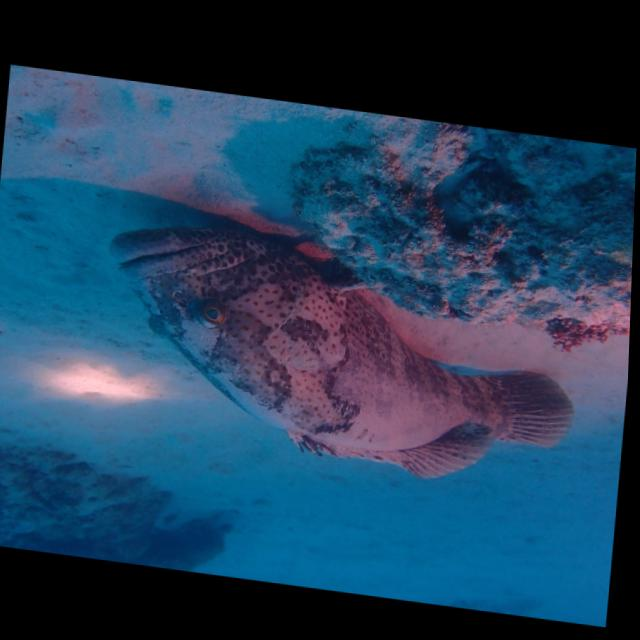Groupers: (88, 211, 587, 501)
